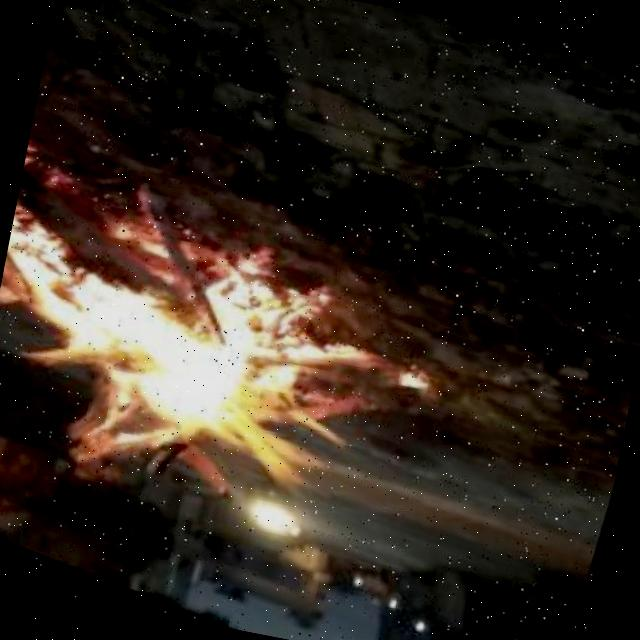fire: (0, 171, 397, 528)
